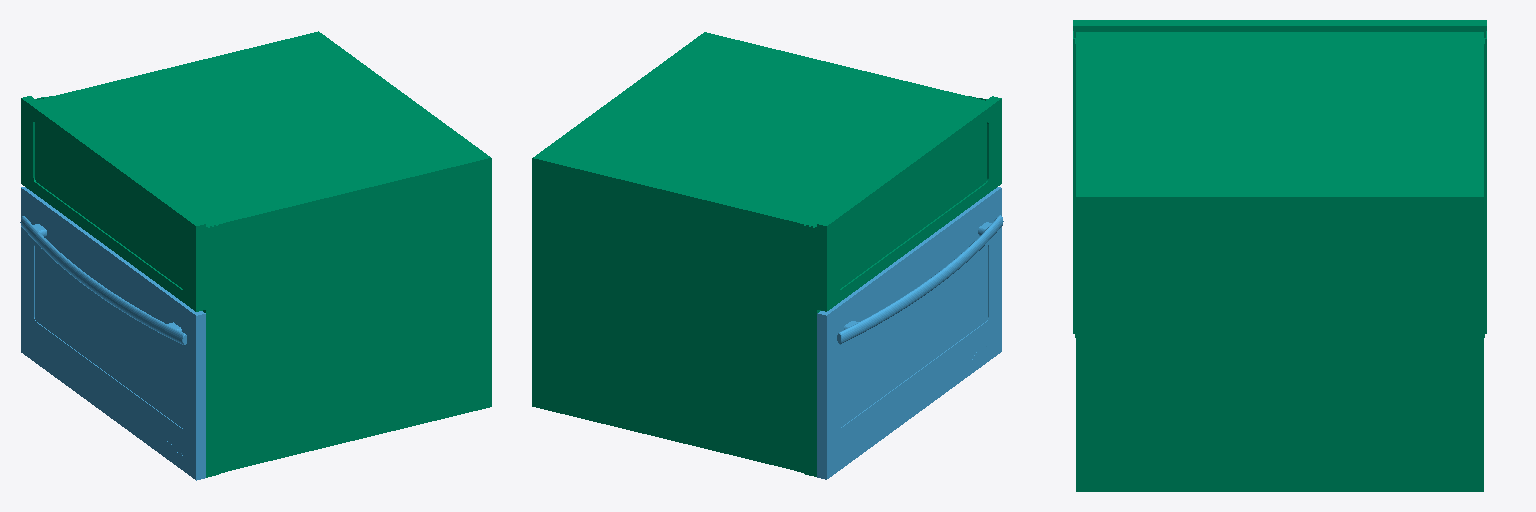
robot.urdf — partnet_e1e2879a951cac7b178e7d331e641179:
<?xml version="1.0" ?>
<robot name="partnet_e1e2879a951cac7b178e7d331e641179">
	<link name="base"/>
	<link name="link_0">
		<visual name="door_frame-14">
			<origin xyz="-0.6561630000000003 0.49994172702683537 -0.5806258643941842"/>
			<geometry>
				<mesh filename="textured_objs/original-12.obj"/>
			</geometry>
		</visual>
		<visual name="door_frame-14">
			<origin xyz="-0.6561630000000003 0.49994172702683537 -0.5806258643941842"/>
			<geometry>
				<mesh filename="textured_objs/original-20.obj"/>
			</geometry>
		</visual>
		<visual name="door_frame-14">
			<origin xyz="-0.6561630000000003 0.49994172702683537 -0.5806258643941842"/>
			<geometry>
				<mesh filename="textured_objs/original-13.obj"/>
			</geometry>
		</visual>
		<visual name="door_frame-14">
			<origin xyz="-0.6561630000000003 0.49994172702683537 -0.5806258643941842"/>
			<geometry>
				<mesh filename="textured_objs/original-14.obj"/>
			</geometry>
		</visual>
		<visual name="door_frame-14">
			<origin xyz="-0.6561630000000003 0.49994172702683537 -0.5806258643941842"/>
			<geometry>
				<mesh filename="textured_objs/original-15.obj"/>
			</geometry>
		</visual>
		<visual name="door_frame-14">
			<origin xyz="-0.6561630000000003 0.49994172702683537 -0.5806258643941842"/>
			<geometry>
				<mesh filename="textured_objs/original-16.obj"/>
			</geometry>
		</visual>
		<visual name="door_frame-14">
			<origin xyz="-0.6561630000000003 0.49994172702683537 -0.5806258643941842"/>
			<geometry>
				<mesh filename="textured_objs/original-17.obj"/>
			</geometry>
		</visual>
		<visual name="door_frame-14">
			<origin xyz="-0.6561630000000003 0.49994172702683537 -0.5806258643941842"/>
			<geometry>
				<mesh filename="textured_objs/original-18.obj"/>
			</geometry>
		</visual>
		<visual name="door_frame-14">
			<origin xyz="-0.6561630000000003 0.49994172702683537 -0.5806258643941842"/>
			<geometry>
				<mesh filename="textured_objs/original-3.obj"/>
			</geometry>
		</visual>
		<visual name="door_frame-14">
			<origin xyz="-0.6561630000000003 0.49994172702683537 -0.5806258643941842"/>
			<geometry>
				<mesh filename="textured_objs/original-19.obj"/>
			</geometry>
		</visual>
		<visual name="glass-15">
			<origin xyz="-0.6561630000000003 0.49994172702683537 -0.5806258643941842"/>
			<geometry>
				<mesh filename="textured_objs/original-1.obj"/>
			</geometry>
		</visual>
		<visual name="handle-16">
			<origin xyz="-0.6561630000000003 0.49994172702683537 -0.5806258643941842"/>
			<geometry>
				<mesh filename="textured_objs/original-8.obj"/>
			</geometry>
		</visual>
		<visual name="handle-16">
			<origin xyz="-0.6561630000000003 0.49994172702683537 -0.5806258643941842"/>
			<geometry>
				<mesh filename="textured_objs/original-10.obj"/>
			</geometry>
		</visual>
		<visual name="handle-16">
			<origin xyz="-0.6561630000000003 0.49994172702683537 -0.5806258643941842"/>
			<geometry>
				<mesh filename="textured_objs/original-9.obj"/>
			</geometry>
		</visual>
		<collision>
			<origin xyz="-0.6561630000000003 0.49994172702683537 -0.5806258643941842"/>
			<geometry>
				<mesh filename="textured_objs/original-12.obj"/>
			</geometry>
		</collision>
		<collision>
			<origin xyz="-0.6561630000000003 0.49994172702683537 -0.5806258643941842"/>
			<geometry>
				<mesh filename="textured_objs/original-20.obj"/>
			</geometry>
		</collision>
		<collision>
			<origin xyz="-0.6561630000000003 0.49994172702683537 -0.5806258643941842"/>
			<geometry>
				<mesh filename="textured_objs/original-13.obj"/>
			</geometry>
		</collision>
		<collision>
			<origin xyz="-0.6561630000000003 0.49994172702683537 -0.5806258643941842"/>
			<geometry>
				<mesh filename="textured_objs/original-14.obj"/>
			</geometry>
		</collision>
		<collision>
			<origin xyz="-0.6561630000000003 0.49994172702683537 -0.5806258643941842"/>
			<geometry>
				<mesh filename="textured_objs/original-15.obj"/>
			</geometry>
		</collision>
		<collision>
			<origin xyz="-0.6561630000000003 0.49994172702683537 -0.5806258643941842"/>
			<geometry>
				<mesh filename="textured_objs/original-16.obj"/>
			</geometry>
		</collision>
		<collision>
			<origin xyz="-0.6561630000000003 0.49994172702683537 -0.5806258643941842"/>
			<geometry>
				<mesh filename="textured_objs/original-17.obj"/>
			</geometry>
		</collision>
		<collision>
			<origin xyz="-0.6561630000000003 0.49994172702683537 -0.5806258643941842"/>
			<geometry>
				<mesh filename="textured_objs/original-18.obj"/>
			</geometry>
		</collision>
		<collision>
			<origin xyz="-0.6561630000000003 0.49994172702683537 -0.5806258643941842"/>
			<geometry>
				<mesh filename="textured_objs/original-3.obj"/>
			</geometry>
		</collision>
		<collision>
			<origin xyz="-0.6561630000000003 0.49994172702683537 -0.5806258643941842"/>
			<geometry>
				<mesh filename="textured_objs/original-19.obj"/>
			</geometry>
		</collision>
		<collision>
			<origin xyz="-0.6561630000000003 0.49994172702683537 -0.5806258643941842"/>
			<geometry>
				<mesh filename="textured_objs/original-1.obj"/>
			</geometry>
		</collision>
		<collision>
			<origin xyz="-0.6561630000000003 0.49994172702683537 -0.5806258643941842"/>
			<geometry>
				<mesh filename="textured_objs/original-8.obj"/>
			</geometry>
		</collision>
		<collision>
			<origin xyz="-0.6561630000000003 0.49994172702683537 -0.5806258643941842"/>
			<geometry>
				<mesh filename="textured_objs/original-10.obj"/>
			</geometry>
		</collision>
		<collision>
			<origin xyz="-0.6561630000000003 0.49994172702683537 -0.5806258643941842"/>
			<geometry>
				<mesh filename="textured_objs/original-9.obj"/>
			</geometry>
		</collision>
	</link>
	<joint name="joint_0" type="revolute">
		<origin xyz="0.6561630000000003 -0.49994172702683537 0.5806258643941842"/>
		<axis xyz="1 0 0"/>
		<child link="link_0"/>
		<parent link="link_1"/>
		<limit lower="0.0" upper="1.5707963267948966"/>
	</joint>
	<link name="link_1">
		<visual name="frame-2">
			<origin xyz="0 0 0"/>
			<geometry>
				<mesh filename="textured_objs/original-5.obj"/>
			</geometry>
		</visual>
		<visual name="frame-2">
			<origin xyz="0 0 0"/>
			<geometry>
				<mesh filename="textured_objs/original-6.obj"/>
			</geometry>
		</visual>
		<visual name="frame-2">
			<origin xyz="0 0 0"/>
			<geometry>
				<mesh filename="textured_objs/new-9.obj"/>
			</geometry>
		</visual>
		<visual name="frame-2">
			<origin xyz="0 0 0"/>
			<geometry>
				<mesh filename="textured_objs/original-4.obj"/>
			</geometry>
		</visual>
		<visual name="frame-2">
			<origin xyz="0 0 0"/>
			<geometry>
				<mesh filename="textured_objs/original-2.obj"/>
			</geometry>
		</visual>
		<visual name="control_button-5">
			<origin xyz="0 0 0"/>
			<geometry>
				<mesh filename="textured_objs/new-8.obj"/>
			</geometry>
		</visual>
		<visual name="control_button-6">
			<origin xyz="0 0 0"/>
			<geometry>
				<mesh filename="textured_objs/new-7.obj"/>
			</geometry>
		</visual>
		<visual name="control_button-7">
			<origin xyz="0 0 0"/>
			<geometry>
				<mesh filename="textured_objs/new-6.obj"/>
			</geometry>
		</visual>
		<visual name="control_button-8">
			<origin xyz="0 0 0"/>
			<geometry>
				<mesh filename="textured_objs/new-5.obj"/>
			</geometry>
		</visual>
		<visual name="control_button-9">
			<origin xyz="0 0 0"/>
			<geometry>
				<mesh filename="textured_objs/new-1.obj"/>
			</geometry>
		</visual>
		<visual name="control_button-10">
			<origin xyz="0 0 0"/>
			<geometry>
				<mesh filename="textured_objs/new-3.obj"/>
			</geometry>
		</visual>
		<visual name="control_button-11">
			<origin xyz="0 0 0"/>
			<geometry>
				<mesh filename="textured_objs/new-0.obj"/>
			</geometry>
		</visual>
		<visual name="control_button-12">
			<origin xyz="0 0 0"/>
			<geometry>
				<mesh filename="textured_objs/new-2.obj"/>
			</geometry>
		</visual>
		<visual name="display_panel-13">
			<origin xyz="0 0 0"/>
			<geometry>
				<mesh filename="textured_objs/new-4.obj"/>
			</geometry>
		</visual>
		<collision>
			<origin xyz="0 0 0"/>
			<geometry>
				<mesh filename="textured_objs/original-5.obj"/>
			</geometry>
		</collision>
		<collision>
			<origin xyz="0 0 0"/>
			<geometry>
				<mesh filename="textured_objs/original-6.obj"/>
			</geometry>
		</collision>
		<collision>
			<origin xyz="0 0 0"/>
			<geometry>
				<mesh filename="textured_objs/new-9.obj"/>
			</geometry>
		</collision>
		<collision>
			<origin xyz="0 0 0"/>
			<geometry>
				<mesh filename="textured_objs/original-4.obj"/>
			</geometry>
		</collision>
		<collision>
			<origin xyz="0 0 0"/>
			<geometry>
				<mesh filename="textured_objs/original-2.obj"/>
			</geometry>
		</collision>
		<collision>
			<origin xyz="0 0 0"/>
			<geometry>
				<mesh filename="textured_objs/new-8.obj"/>
			</geometry>
		</collision>
		<collision>
			<origin xyz="0 0 0"/>
			<geometry>
				<mesh filename="textured_objs/new-7.obj"/>
			</geometry>
		</collision>
		<collision>
			<origin xyz="0 0 0"/>
			<geometry>
				<mesh filename="textured_objs/new-6.obj"/>
			</geometry>
		</collision>
		<collision>
			<origin xyz="0 0 0"/>
			<geometry>
				<mesh filename="textured_objs/new-5.obj"/>
			</geometry>
		</collision>
		<collision>
			<origin xyz="0 0 0"/>
			<geometry>
				<mesh filename="textured_objs/new-1.obj"/>
			</geometry>
		</collision>
		<collision>
			<origin xyz="0 0 0"/>
			<geometry>
				<mesh filename="textured_objs/new-3.obj"/>
			</geometry>
		</collision>
		<collision>
			<origin xyz="0 0 0"/>
			<geometry>
				<mesh filename="textured_objs/new-0.obj"/>
			</geometry>
		</collision>
		<collision>
			<origin xyz="0 0 0"/>
			<geometry>
				<mesh filename="textured_objs/new-2.obj"/>
			</geometry>
		</collision>
		<collision>
			<origin xyz="0 0 0"/>
			<geometry>
				<mesh filename="textured_objs/new-4.obj"/>
			</geometry>
		</collision>
	</link>
	<joint name="joint_1" type="fixed">
		<origin rpy="1.570796326794897 0 -1.570796326794897" xyz="0 0 0"/>
		<child link="link_1"/>
		<parent link="base"/>
	</joint>
</robot>

--- Facts derived from the render (not from the file) ---
3 views of the same robot in one strip: view 1: azimuth 30°, elevation 25°; view 2: azimuth 150°, elevation 25°; view 3: azimuth 270°, elevation 25° (orthographic).
Model partnet_e1e2879a951cac7b178e7d331e641179 with 3 links and 2 joints (1 revolute, 1 fixed), rooted at base, posed all joints at 0.
Links seen in each view (by area): view 1: link_1, link_0; view 2: link_1, link_0; view 3: link_1.
Boxes of the visible links, left/top/right/bottom form: link_1: left=21, top=31, right=491, bottom=477; link_0: left=20, top=187, right=205, bottom=480; link_1: left=532, top=32, right=1001, bottom=476; link_0: left=817, top=187, right=1003, bottom=479; link_1: left=1073, top=20, right=1486, bottom=491.
Bounding box of the posed robot: 1.38 × 1.32 × 1.05 m (x, y, z).
19 mesh visuals loaded from 28 distinct referenced files (19 OBJ); not drawn: 9 (reference not matched to a file when rendering).
